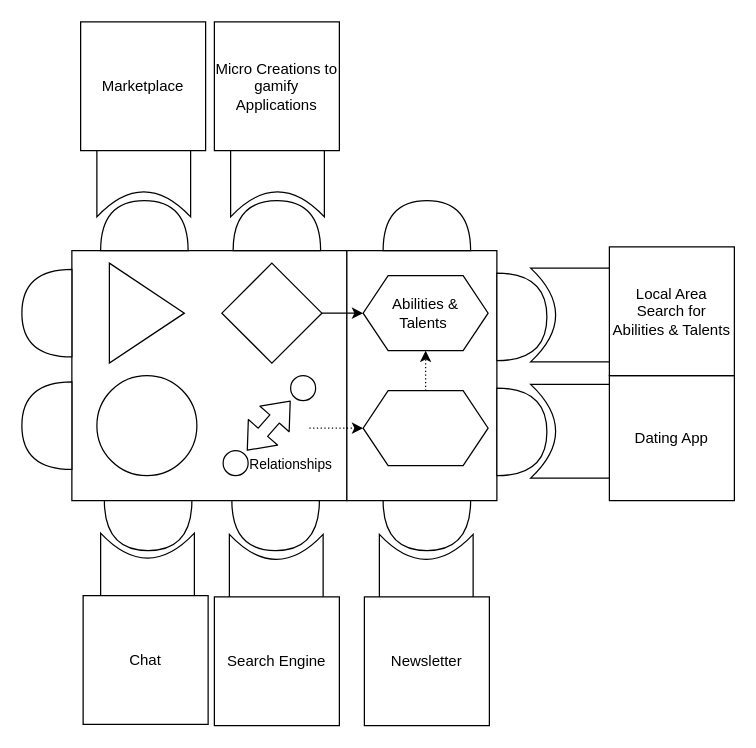
The diagram is 756 pixels wide and 748 high, and some of its shapes have lost their labels. The shapes that lost their labels are listed below. From the top down, each one's centre as x and y in pixels, then its label:
(x=146, y=312): Money Transfer
(x=271, y=312): Money Creation
(x=146, y=425): Communities
(x=425, y=427): User Management
